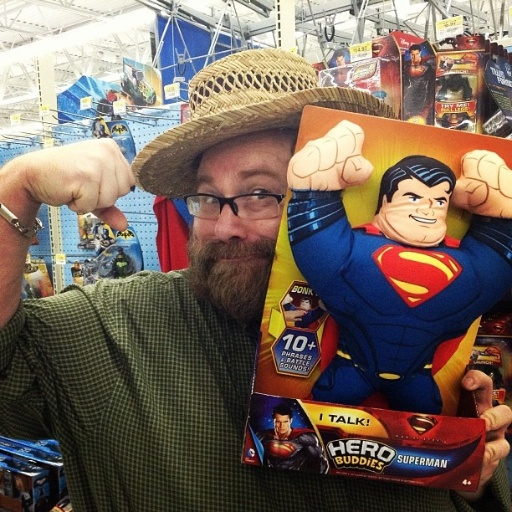hand: (16, 137, 137, 229), (460, 368, 510, 491), (307, 115, 378, 185), (451, 148, 510, 217)
